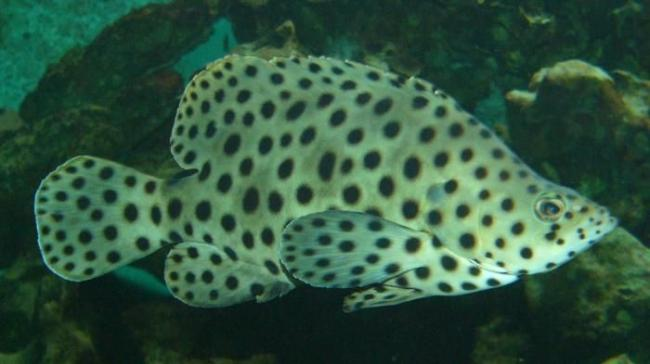fish: (34, 54, 615, 309)
